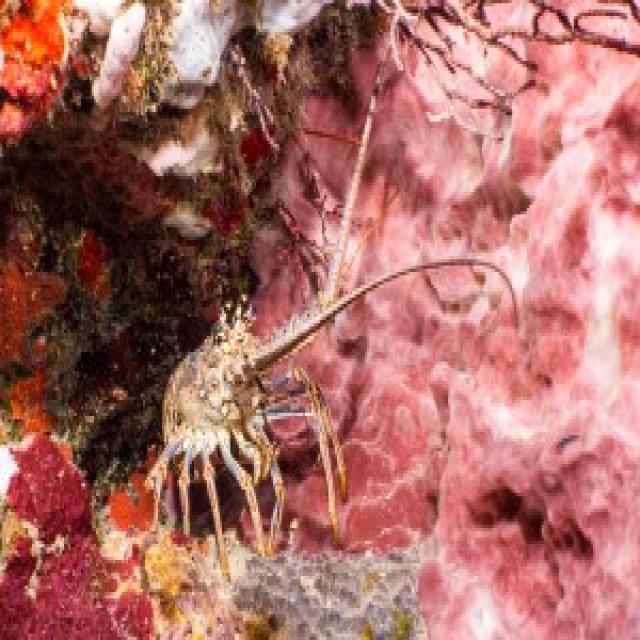lobsters: (61, 117, 501, 600)
